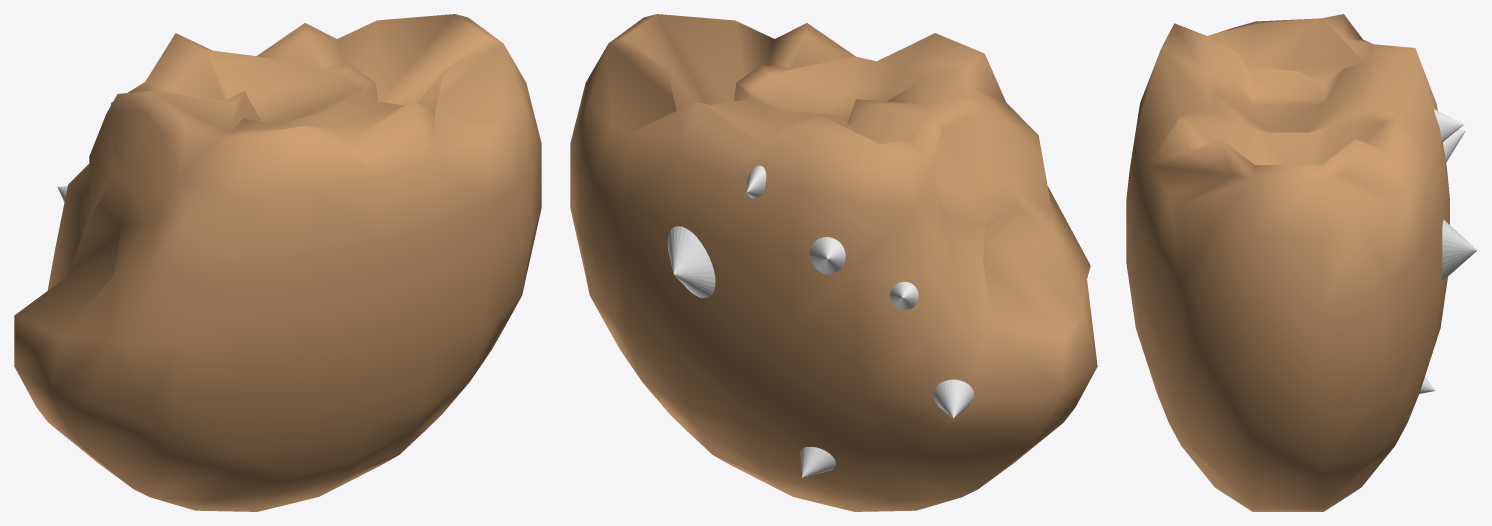
File: cookie3.glb
The picture shows the model from 3 angles, left to right: view 1: azimuth 30°, elevation 25°; view 2: azimuth 150°, elevation 25°; view 3: azimuth 270°, elevation 25°; orthographic projection.
Visible parts, largest first — view 1: Mball.001; view 2: Mball.001, Cone.003, Cone.008, Cone.005, Cone.009, Cone.006; view 3: Mball.001, Cone.003, Cone.004.
Boxes of the visible parts, left/top/right/bottom form: Mball.001: left=14, top=14, right=541, bottom=511; Mball.001: left=570, top=14, right=1097, bottom=511; Cone.003: left=667, top=226, right=715, bottom=297; Cone.008: left=934, top=379, right=974, bottom=418; Cone.005: left=809, top=237, right=845, bottom=274; Cone.009: left=800, top=447, right=835, bottom=477; Cone.006: left=890, top=281, right=918, bottom=310; Mball.001: left=1126, top=14, right=1449, bottom=511; Cone.003: left=1442, top=220, right=1477, bottom=280; Cone.004: left=1434, top=109, right=1463, bottom=142.
Size of the model in its own units: 3.2 by 2.6 by 1.97.
